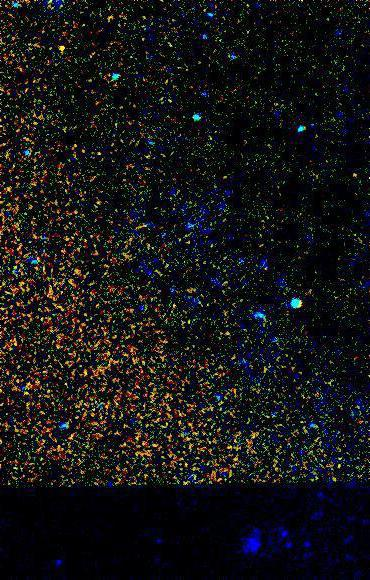star: (44, 33, 74, 63)
